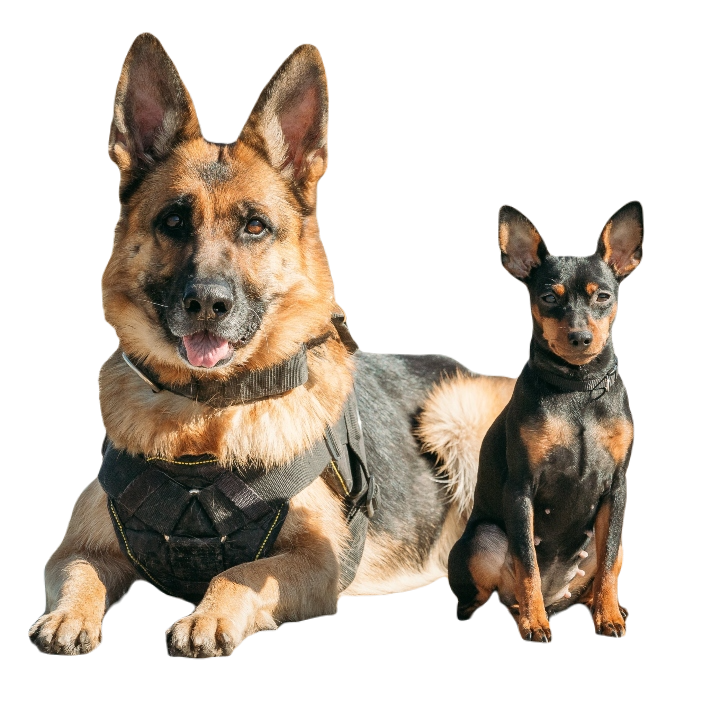Dog: (22, 28, 397, 668), (447, 194, 649, 646)
